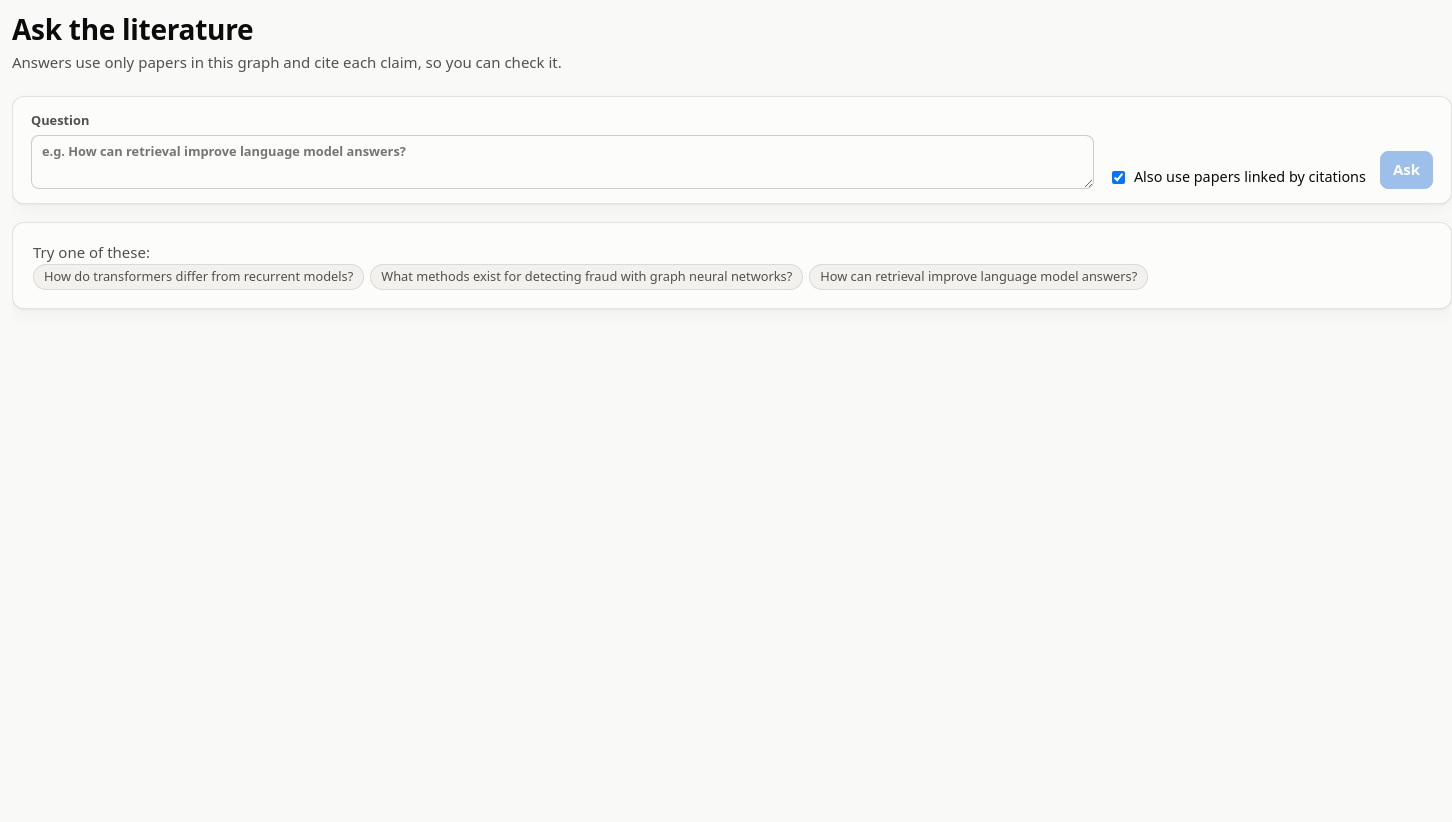
Test: AskPage › warns when the answer is not grounded in a source
Step 1. Type "What is attention?" into the text box labelled "Question" → (562, 162), box [31,135,1094,189]
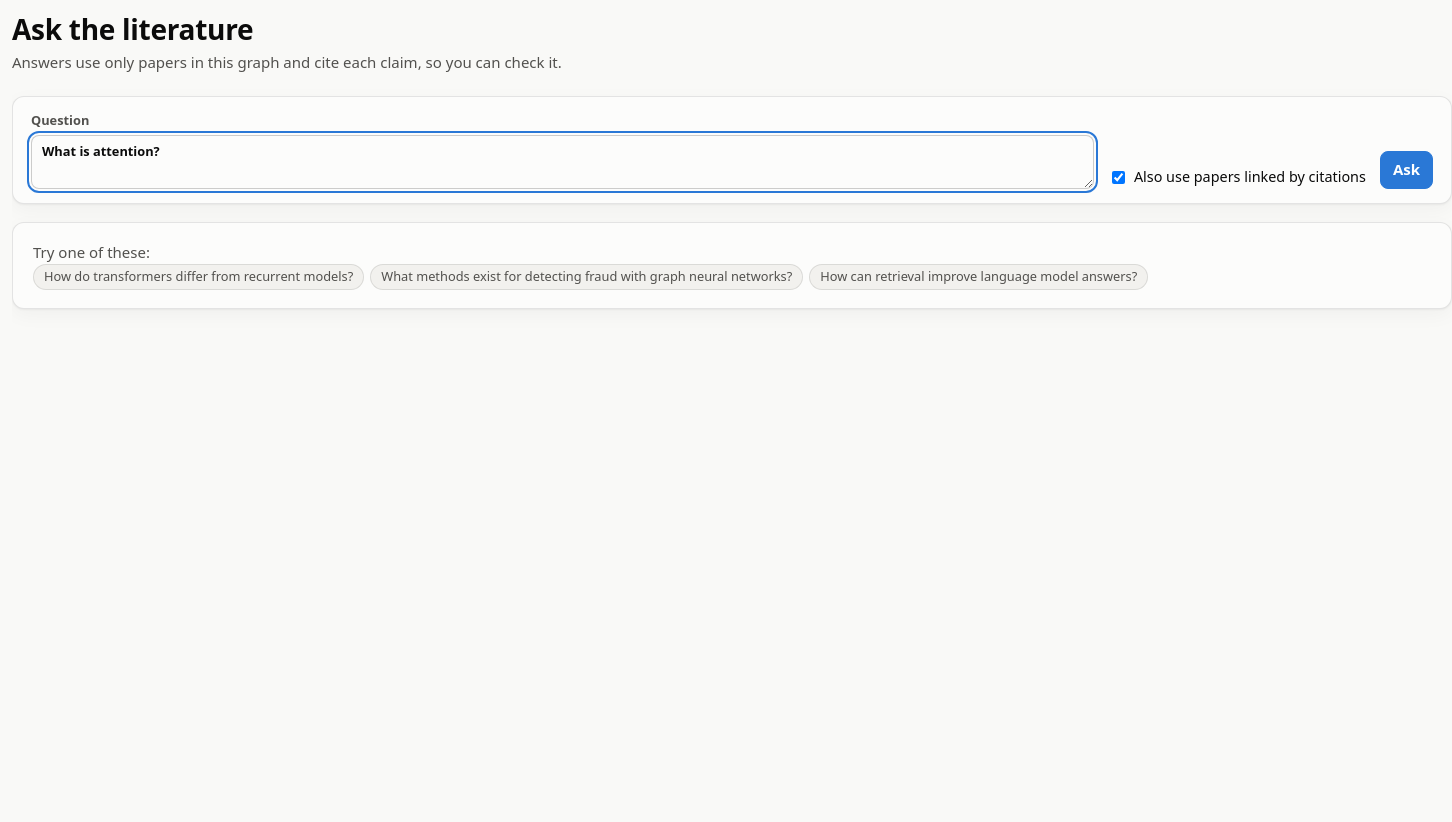
Step 2. Click the button "Ask" → (1406, 170), box [1380,152,1433,189]
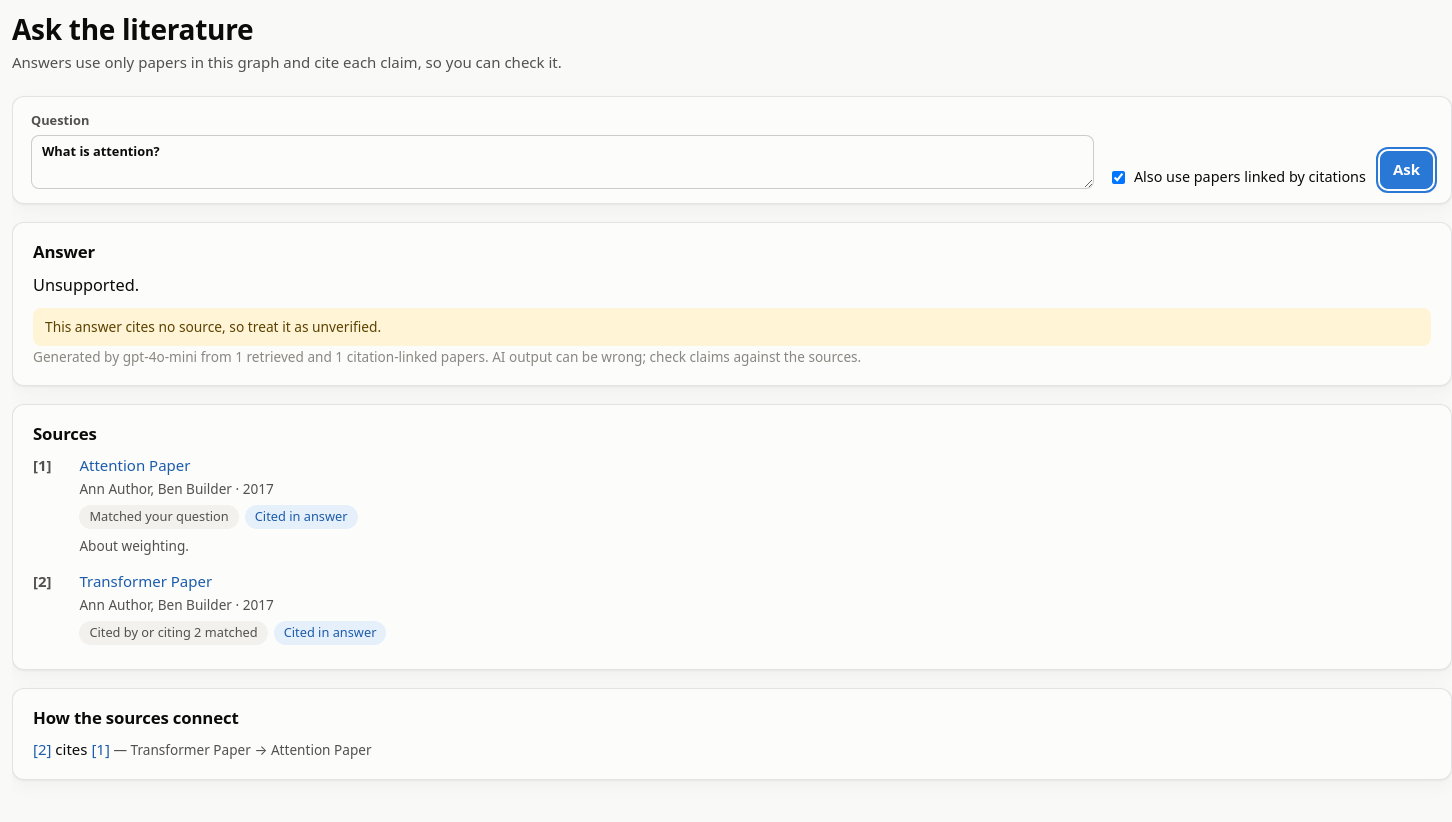
Now the text "This answer cites no source, so treat it as unverified." is shown, box [45,317,381,336]
